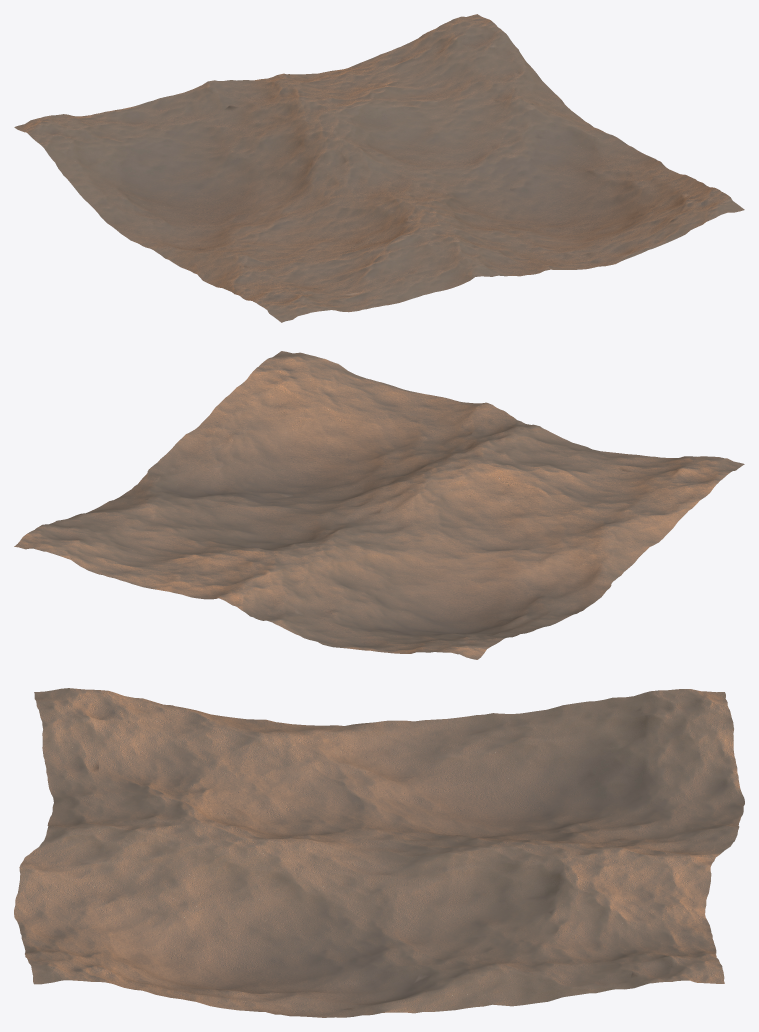
Rendered from desierto.obj.
3 renders of one model, top to bottom at view 1: azimuth 30°, elevation 25°; view 2: azimuth 150°, elevation 25°; view 3: azimuth 270°, elevation 25°, orthographic. The views are drawn at different scales.
Parts seen in each view (by area): view 1: Plane_LP_Plane.002; view 2: Plane_LP_Plane.002; view 3: Plane_LP_Plane.002.
Boxes of the visible parts, <box> form: Plane_LP_Plane.002: <box>14,14,744,322</box>; Plane_LP_Plane.002: <box>14,351,744,659</box>; Plane_LP_Plane.002: <box>14,688,744,1017</box>.
Bounding box in the file's own units: 3.53 × 0.3183 × 3.64.
